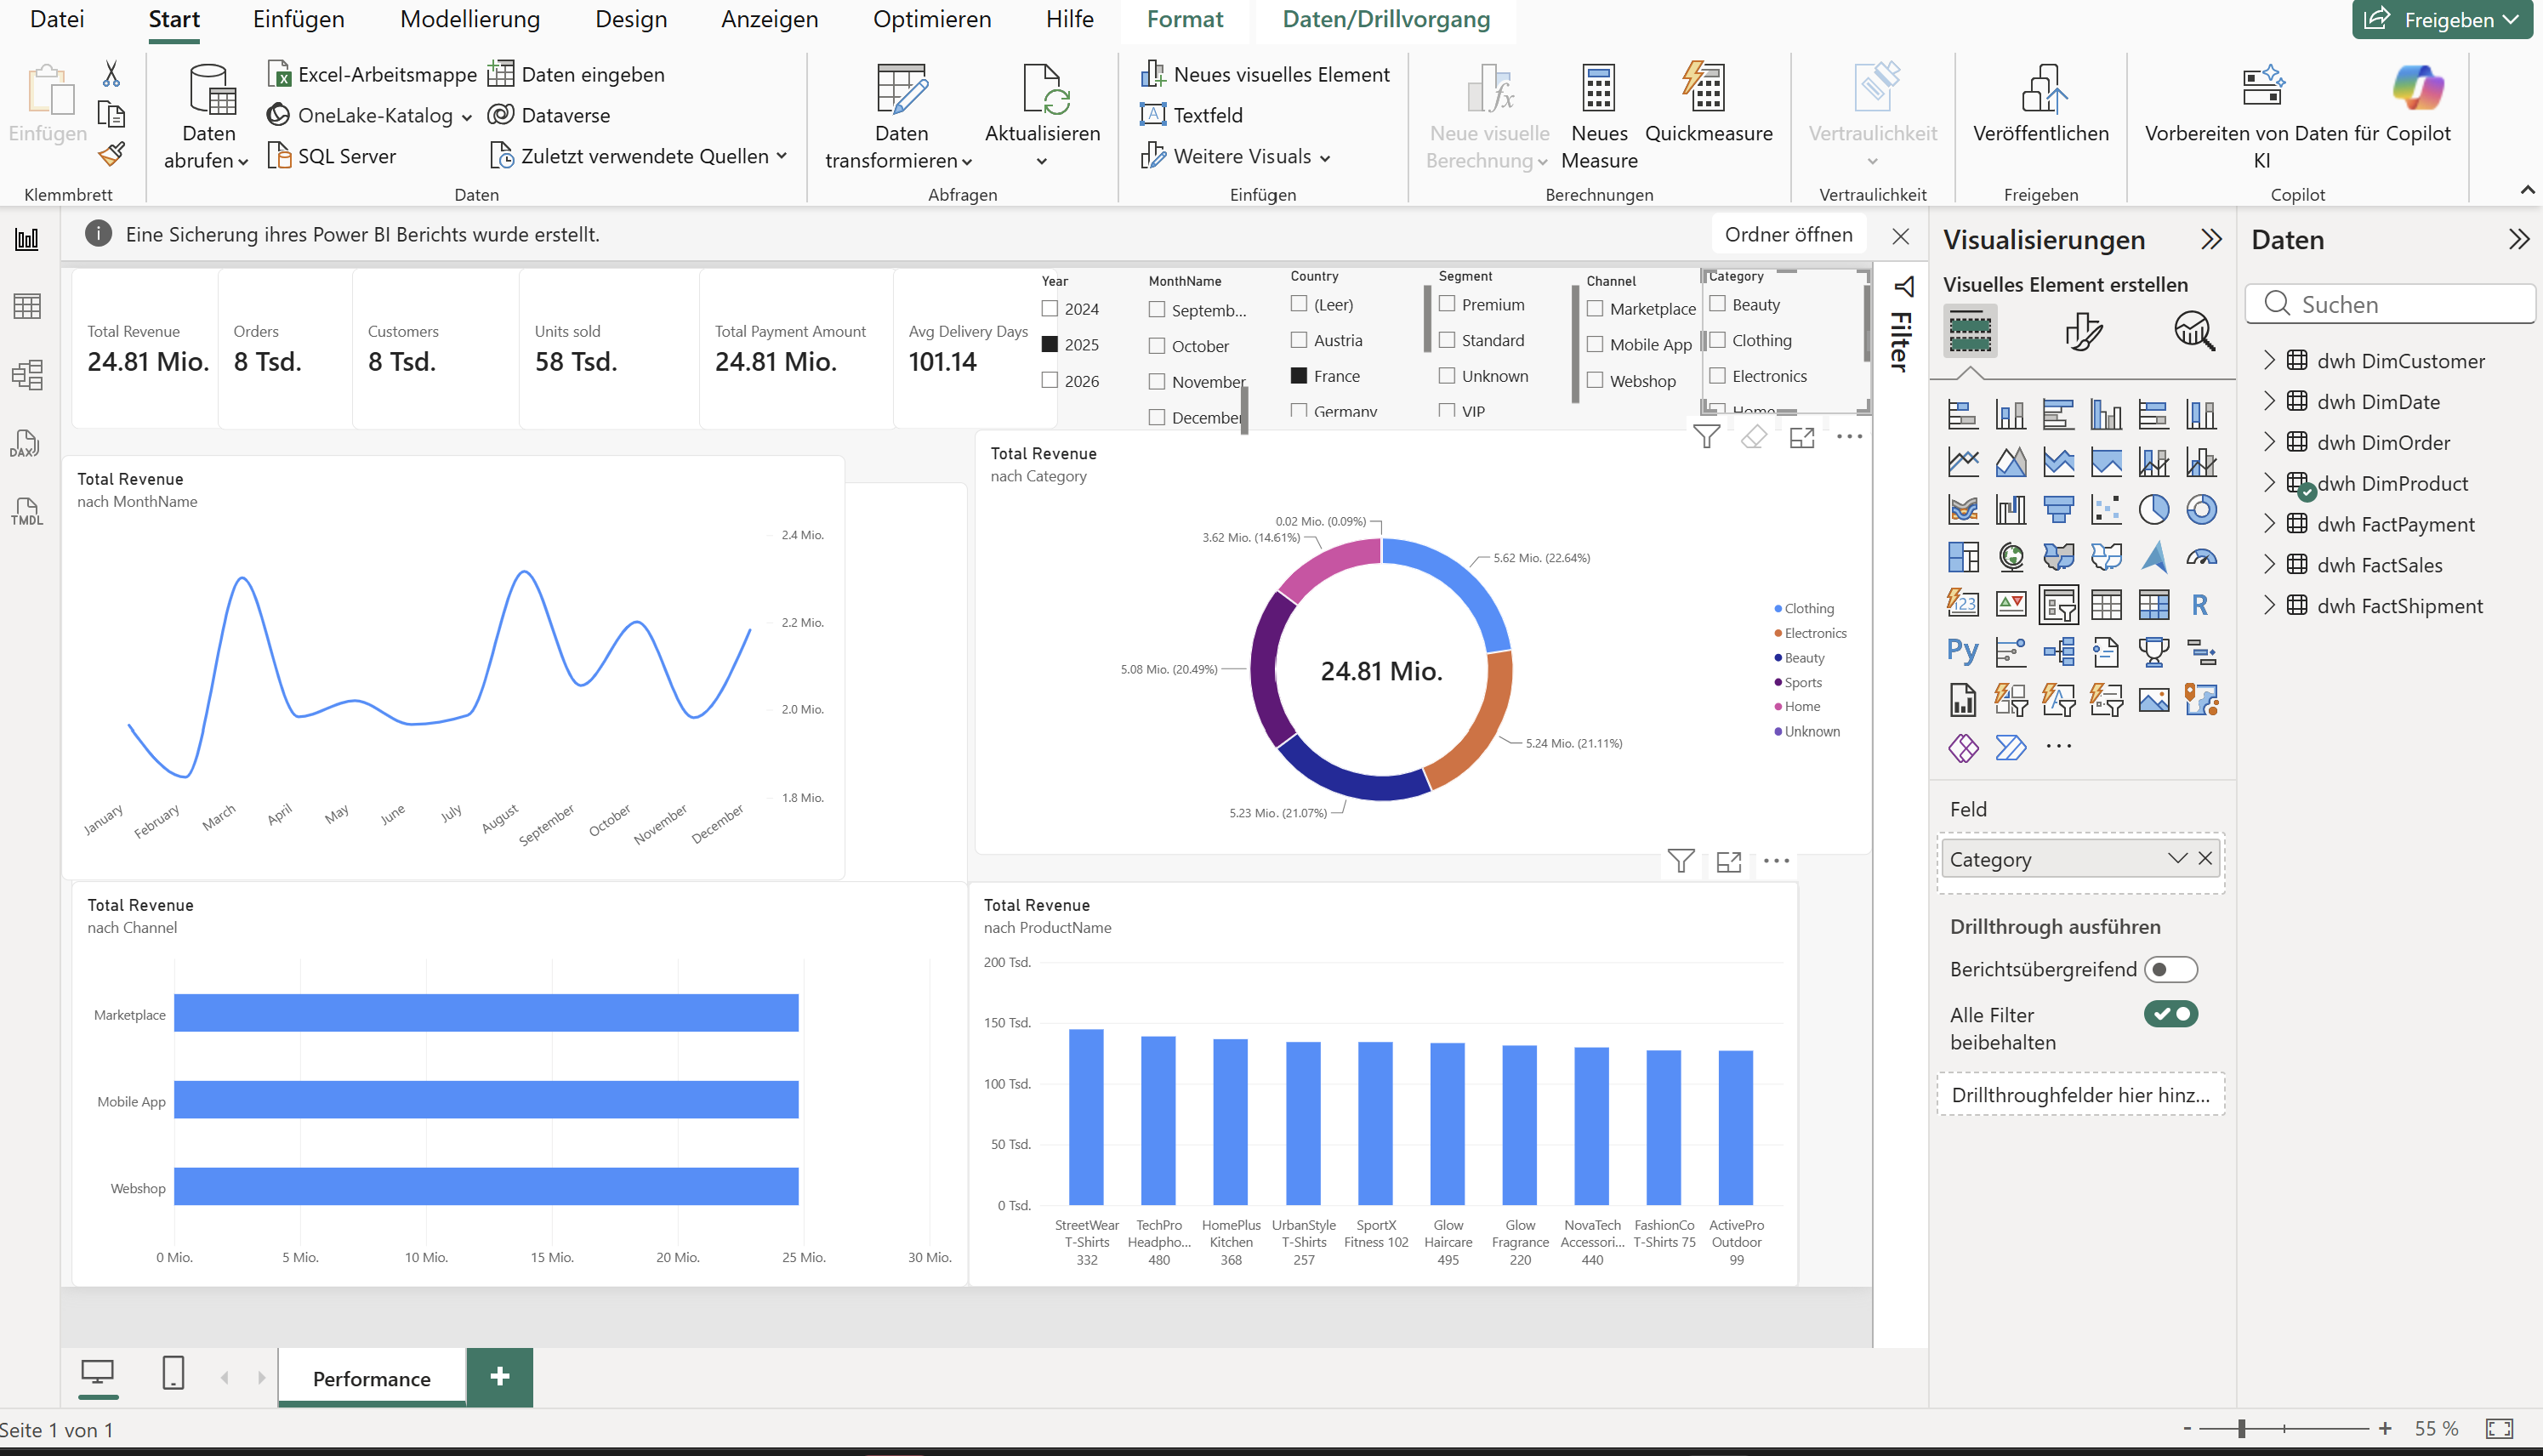

The page's visual inventory and layout, read from the dashboard file:
{"tool":"powerbi","page":{"name":"Performance","canvas":[1920,1080],"ordinal":0},"visuals":[{"type":"cardVisual","fields":{"Data":["dwh FactSales.Total Revenue"]},"box":[10.2,0,210.6,171.8],"z":0},{"type":"cardVisual","fields":{"Data":["dwh FactSales.Orders"]},"box":[166.8,0,211,172],"z":1000},{"type":"cardVisual","fields":{"Data":["dwh FactSales.Customers"]},"box":[308.8,0,211,172],"z":2000},{"type":"cardVisual","fields":{"Data":["dwh FactSales.Units sold"]},"box":[485.6,0,211,172],"z":3000},{"type":"cardVisual","fields":{"Data":["dwh FactPayment.Total Payment Amount"]},"box":[677.4,0,211,172],"z":4000},{"type":"cardVisual","fields":{"Data":["dwh FactShipment.Avg Delivery Days"]},"box":[882.4,0,175,171.4],"z":5000},{"type":"lineChart","fields":{"Category":["dwh DimDate.Date.Variation.Datumshierarchie.Jahr","dwh DimDate.Date.Variation.Datumshierarchie.Quartal","dwh DimDate.Date.Variation.Datumshierarchie.Monat","dwh DimDate.Date.Variation.Datumshierarchie.Tag"]},"box":[10.2,226.9,951.1,652.7],"z":6000},{"type":"lineChart","fields":{"Category":["dwh DimDate.MonthName"],"Y2":["dwh FactSales.Total Revenue"]},"box":[0,199.2,831.8,450.7],"z":7000},{"type":"donutChart","fields":{"Category":["dwh DimProduct.Category"],"Y":["dwh FactSales.Total Revenue"]},"box":[968.7,171.8,951.3,450.7],"z":8000},{"type":"clusteredBarChart","fields":{"Category":["dwh DimOrder.Channel"],"Y":["dwh FactSales.Total Revenue"]},"box":[10,650,951.3,430.8],"z":9000},{"type":"clusteredColumnChart","fields":{"Category":["dwh DimProduct.ProductName"],"Y":["dwh FactSales.Total Revenue"]},"box":[961.2,650,881.6,430.8],"z":10000},{"type":"slicer","fields":{"Values":["dwh DimDate.Year"]},"box":[1032.2,5.4,101.1,166],"z":11000},{"type":"slicer","fields":{"Values":["dwh DimDate.MonthName"]},"box":[1146.4,5.5,113.4,171.5],"z":12000},{"type":"slicer","fields":{"Values":["dwh DimCustomer.Country"]},"box":[1295.8,0,156.9,156.9],"z":13000},{"type":"slicer","fields":{"Values":["dwh DimCustomer.Segment"]},"box":[1453.1,0,156.9,156.9],"z":14000},{"type":"slicer","fields":{"Values":["dwh DimOrder.Channel"]},"box":[1610.4,5,129.8,157.3],"z":15000},{"type":"slicer","fields":{"Values":["dwh DimProduct.Category"]},"box":[1740.2,0,179.8,154.8],"z":16000}]}

Visuals, with their boxes on the page's 1920x1080 design canvas (x1, y1, x2, y2). These are canvas units, not pixel positions in the 2543x1456 screenshot, which may show the page scaled, cropped or inside an application window:
cardVisual - dwh FactSales.Total Revenue: [x1=10, y1=0, x2=221, y2=172]
cardVisual - dwh FactSales.Orders: [x1=167, y1=0, x2=378, y2=172]
cardVisual - dwh FactSales.Customers: [x1=309, y1=0, x2=520, y2=172]
cardVisual - dwh FactSales.Units sold: [x1=486, y1=0, x2=697, y2=172]
cardVisual - dwh FactPayment.Total Payment Amount: [x1=677, y1=0, x2=888, y2=172]
cardVisual - dwh FactShipment.Avg Delivery Days: [x1=882, y1=0, x2=1057, y2=171]
lineChart - dwh DimDate.Date.Variation.Datumshierarchie.Jahr x dwh DimDate.Date.Variation.Datumshierarchie.Quartal: [x1=10, y1=227, x2=961, y2=880]
lineChart - dwh DimDate.MonthName x dwh FactSales.Total Revenue: [x1=0, y1=199, x2=832, y2=650]
donutChart - dwh DimProduct.Category x dwh FactSales.Total Revenue: [x1=969, y1=172, x2=1920, y2=622]
clusteredBarChart - dwh DimOrder.Channel x dwh FactSales.Total Revenue: [x1=10, y1=650, x2=961, y2=1081]
clusteredColumnChart - dwh DimProduct.ProductName x dwh FactSales.Total Revenue: [x1=961, y1=650, x2=1843, y2=1081]
slicer - dwh DimDate.Year: [x1=1032, y1=5, x2=1133, y2=171]
slicer - dwh DimDate.MonthName: [x1=1146, y1=6, x2=1260, y2=177]
slicer - dwh DimCustomer.Country: [x1=1296, y1=0, x2=1453, y2=157]
slicer - dwh DimCustomer.Segment: [x1=1453, y1=0, x2=1610, y2=157]
slicer - dwh DimOrder.Channel: [x1=1610, y1=5, x2=1740, y2=162]
slicer - dwh DimProduct.Category: [x1=1740, y1=0, x2=1920, y2=155]
